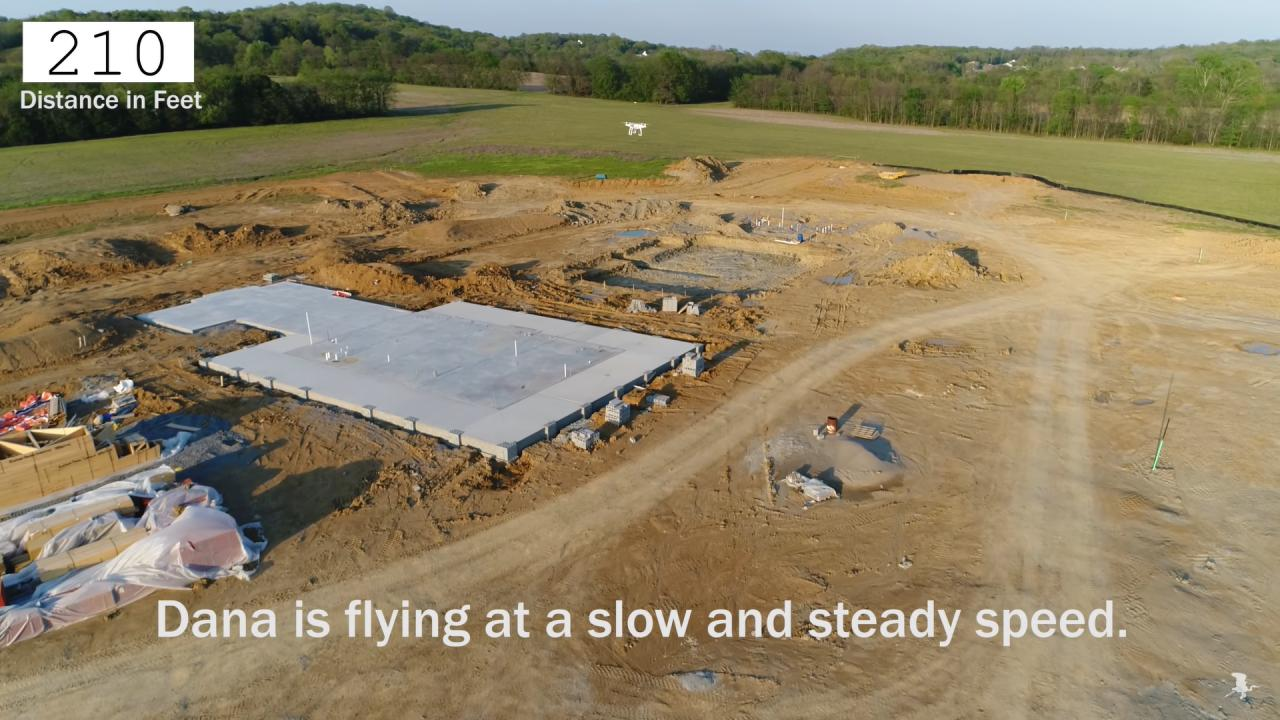Drone: (615, 114, 656, 144)
